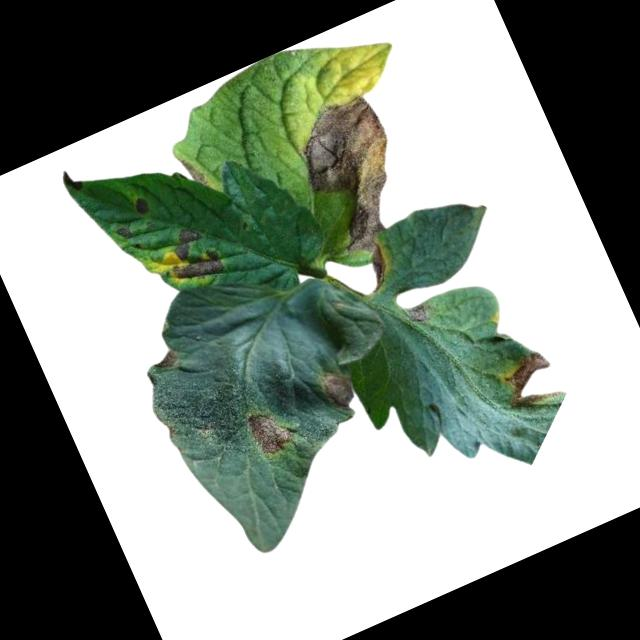Early_blight: (291, 89, 428, 259), (157, 219, 228, 292), (493, 348, 567, 418), (241, 402, 298, 461), (314, 366, 361, 415), (358, 242, 397, 291), (179, 151, 208, 193), (150, 349, 182, 375), (58, 166, 84, 196), (129, 195, 153, 219), (406, 303, 431, 326), (114, 227, 132, 244)
